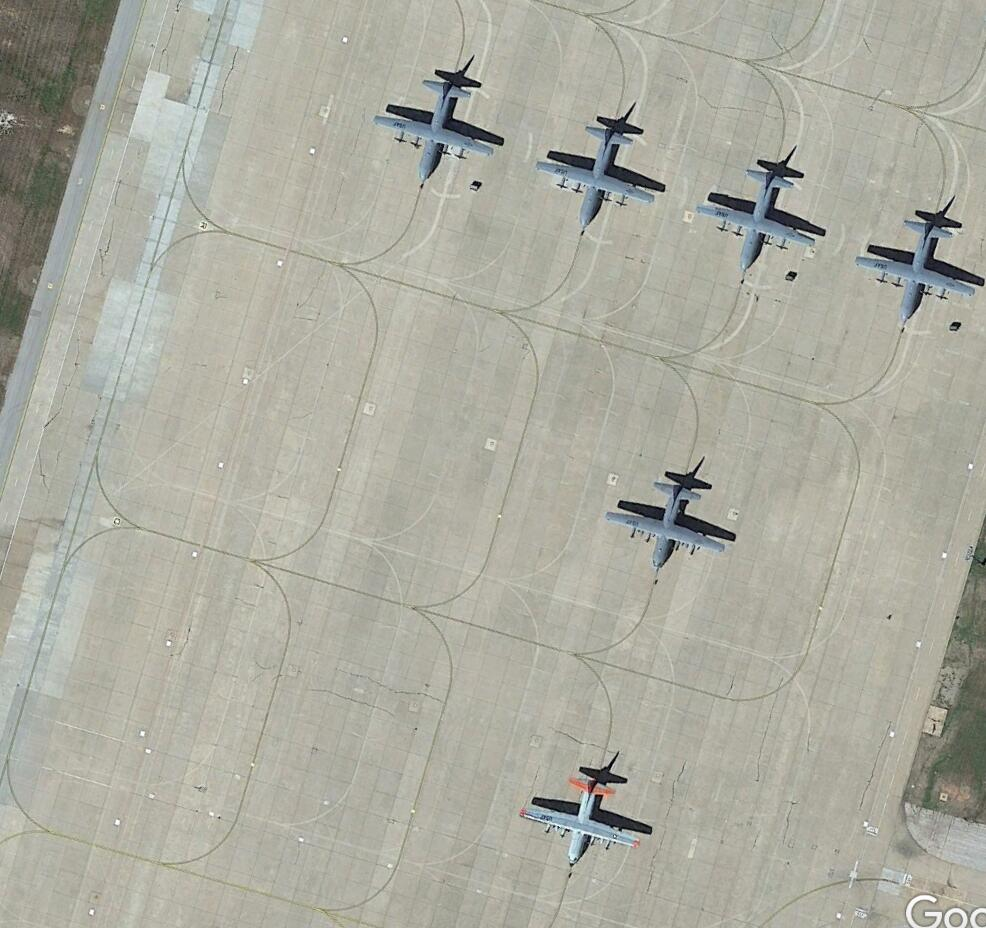A2: (367, 71, 510, 190), (530, 115, 661, 236), (852, 211, 986, 325), (695, 162, 822, 274), (512, 766, 648, 869), (602, 470, 731, 573)
